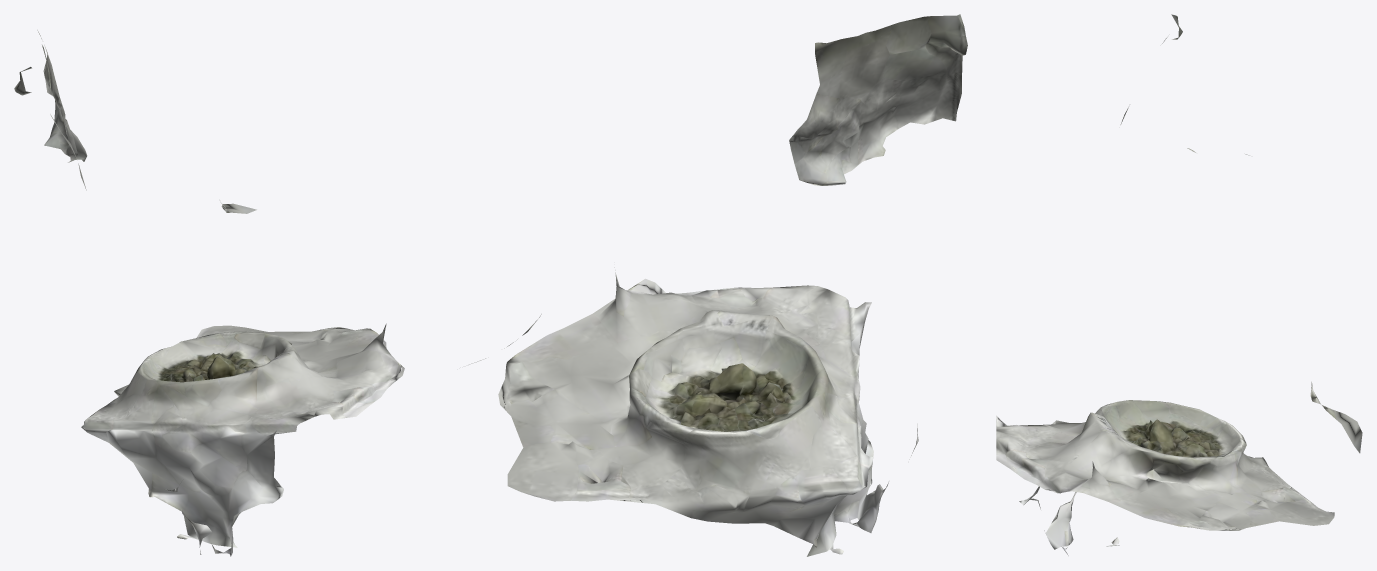
File: hall.glb
The picture shows the model from 3 angles, left to right: view 1: azimuth 30°, elevation 25°; view 2: azimuth 150°, elevation 25°; view 3: azimuth 270°, elevation 25°; orthographic projection. The views are drawn at different scales.
Size of the model in its own units: 1.59 by 2.02 by 1.43.
1 material, 1 textured.
